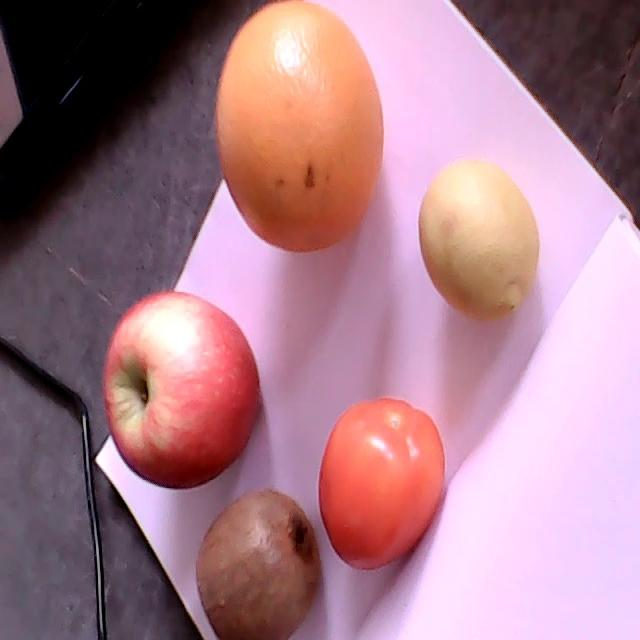apple: (103, 289, 260, 492)
kiwi: (196, 487, 319, 639)
lemon: (420, 161, 539, 319)
orange: (217, 2, 385, 252)
tomato: (319, 398, 444, 570)
